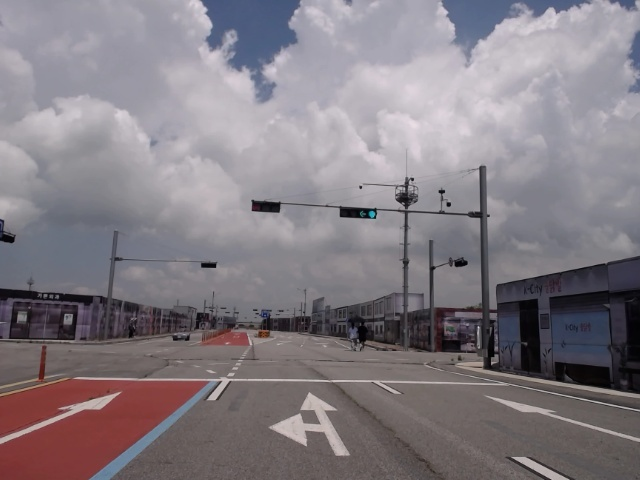all_green_4: (339, 207, 378, 218)
